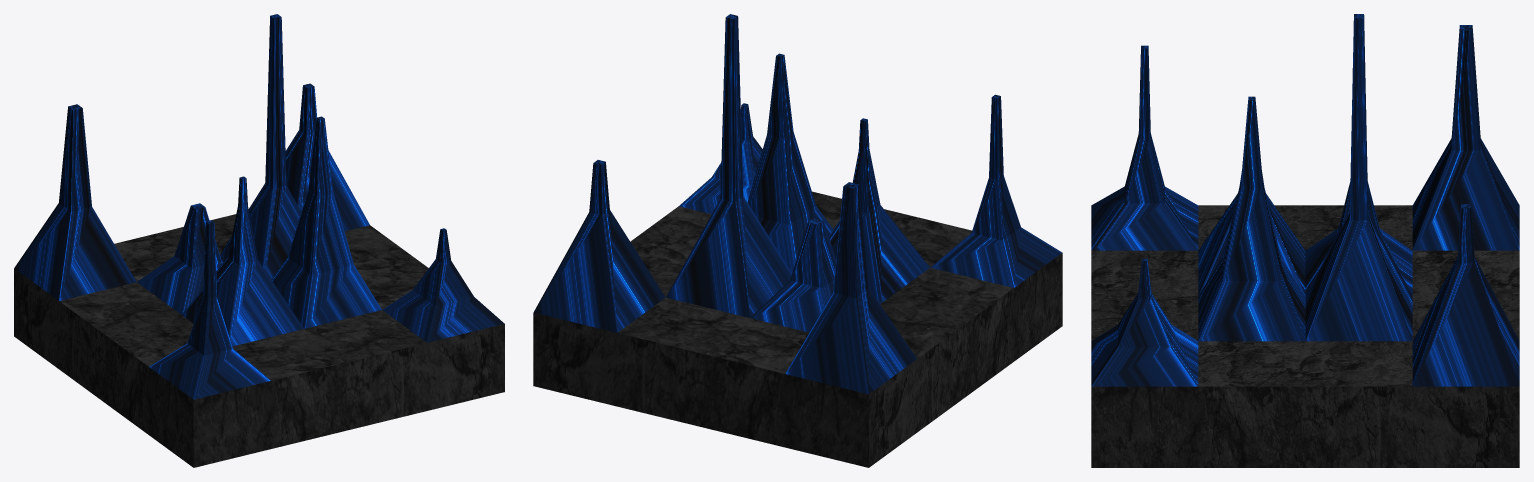
Rendered from EmptySpace3.fbx.
3 views of the same model, side by side, from view 1: azimuth 30°, elevation 25°; view 2: azimuth 150°, elevation 25°; view 3: azimuth 270°, elevation 25° (orthographic). The views are drawn at different scales.
Parts seen in each view (by area): view 1: blankspace8; view 2: blankspace8; view 3: blankspace8.
Boxes of the visible parts, left/top/right/bottom form: blankspace8: left=14, top=14, right=504, bottom=467; blankspace8: left=533, top=14, right=1062, bottom=467; blankspace8: left=1091, top=14, right=1519, bottom=467.
Bounding box in the file's own units: 100 × 98.87 × 100.
2 materials, 2 textured.
